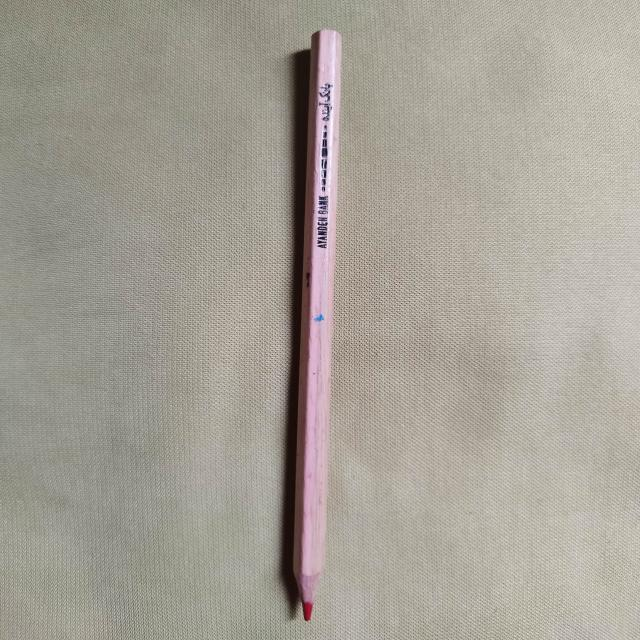pencil: (292, 29, 342, 620)
